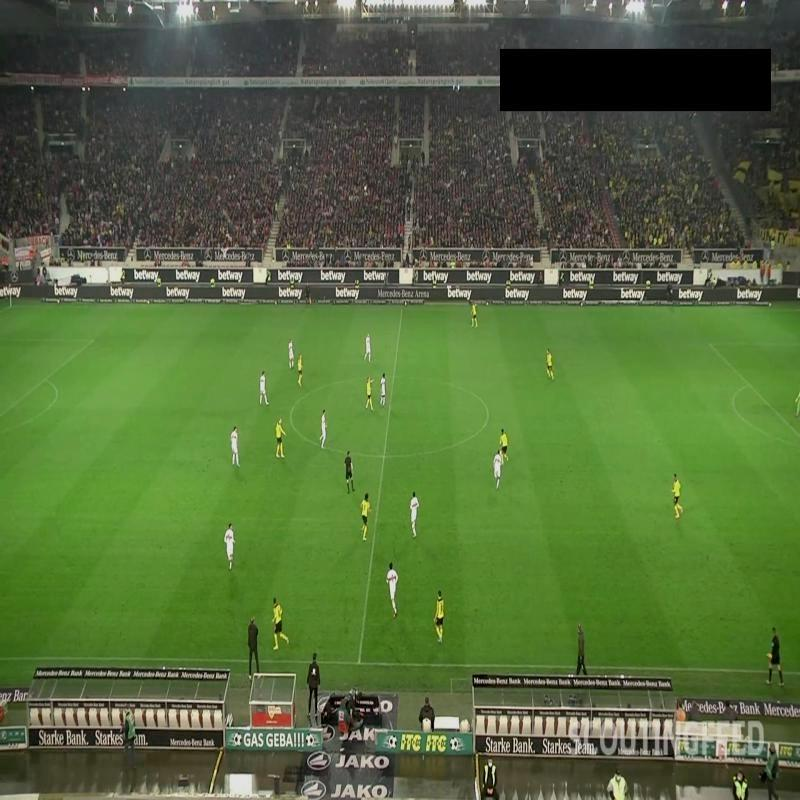1: (5, 297, 19, 311)
10: (33, 372, 57, 388), (743, 378, 757, 392)
13: (397, 299, 411, 313)
14: (387, 369, 401, 383)
15: (377, 448, 391, 462)
16: (349, 653, 368, 674)
9: (86, 332, 98, 348), (703, 338, 717, 351)
c: (284, 404, 298, 418), (481, 409, 495, 423)
